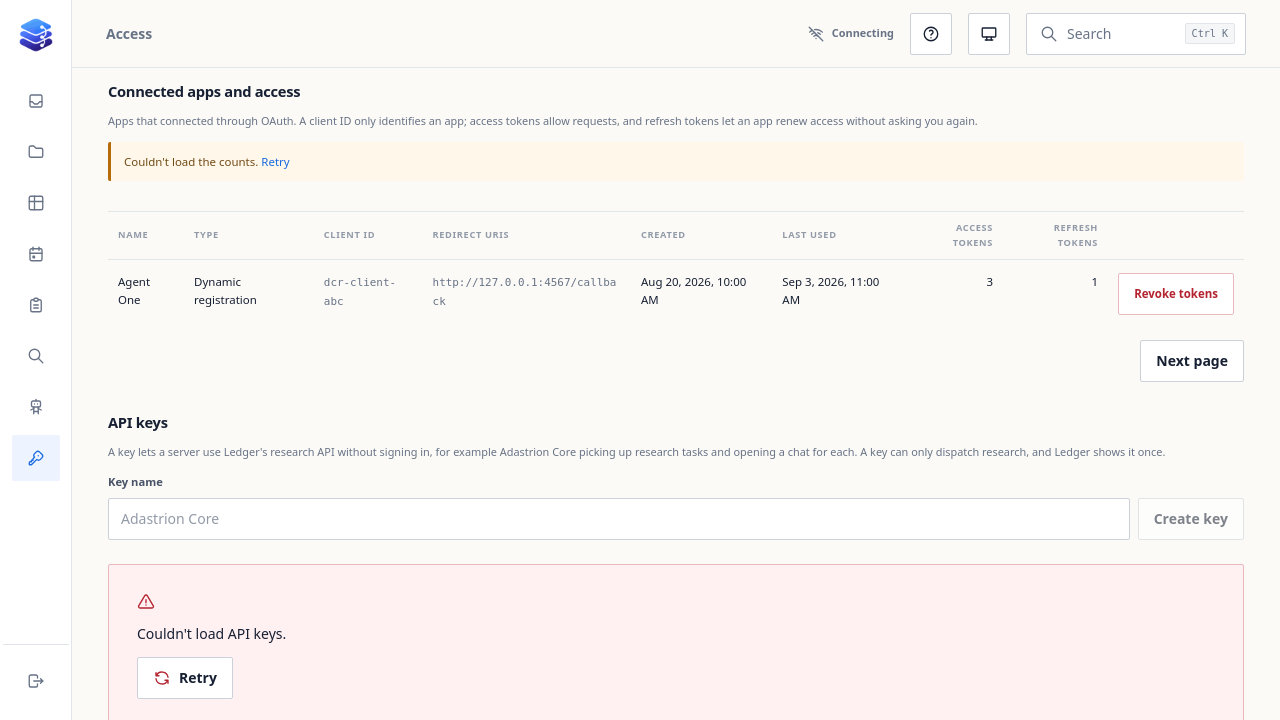
Test: access › navigates bounded client pages
(page scrolled)
Expected: the text "Agent One" is shown, [108,260,184,328]
Click the button "Next page" at x=1192, y=361, box [1140,340,1244,382]
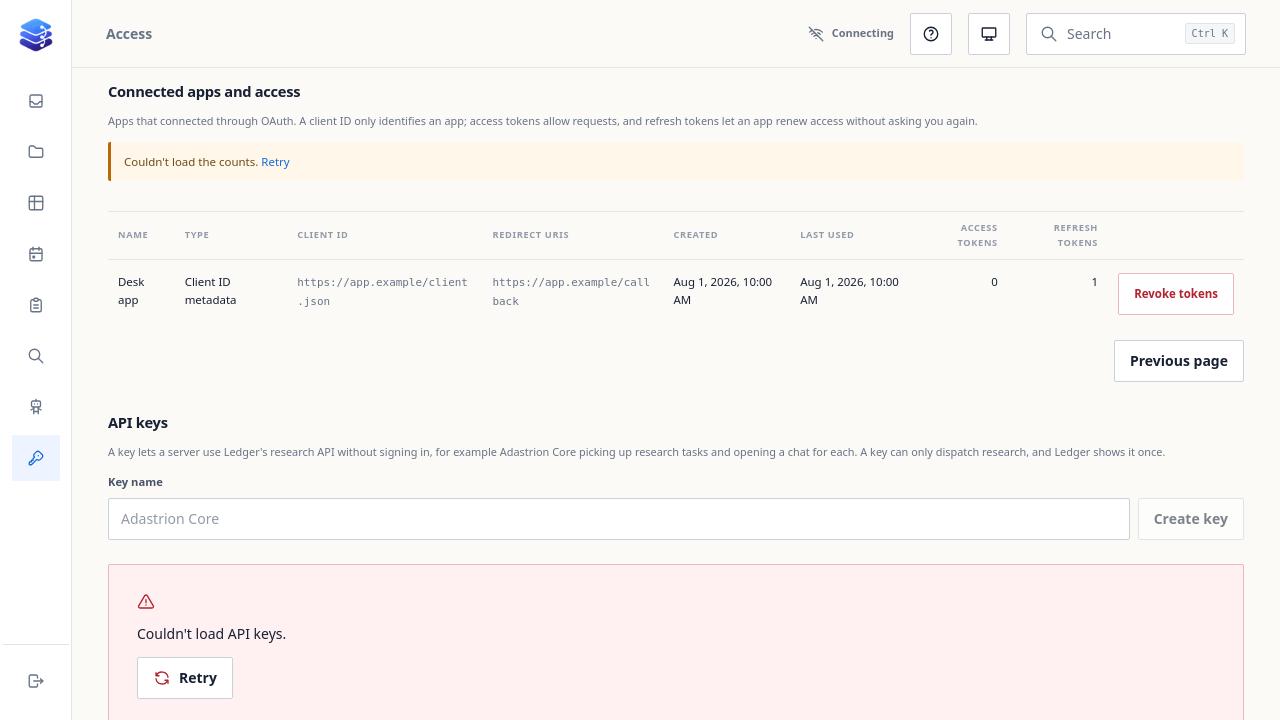
Expected: the button "Previous page" is enabled, [1114,340,1244,382]
Now the text "Desk app" is shown, box [108,260,175,328]
Now the button "Next page" is gone
